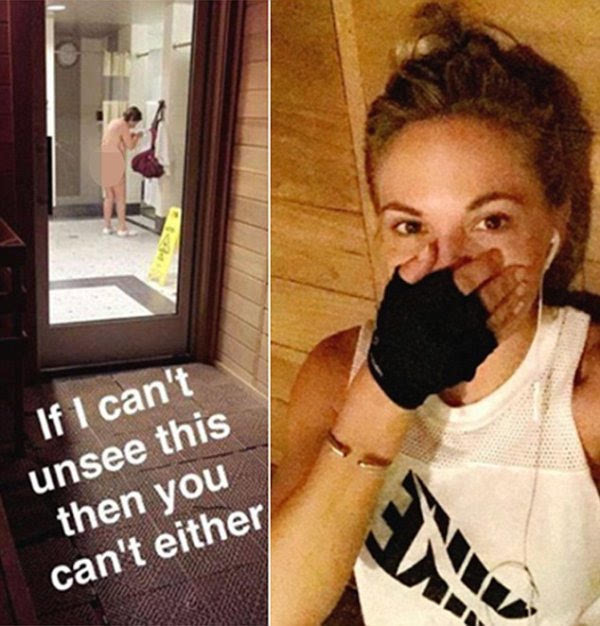face: (376, 123, 548, 349)
